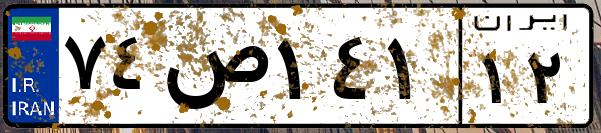1: (270, 28, 330, 110), (385, 28, 445, 110), (475, 38, 525, 113)
2: (525, 38, 570, 115)
4: (330, 28, 385, 110), (110, 28, 158, 98)
7: (57, 26, 110, 100)
ص: (158, 20, 270, 120)
